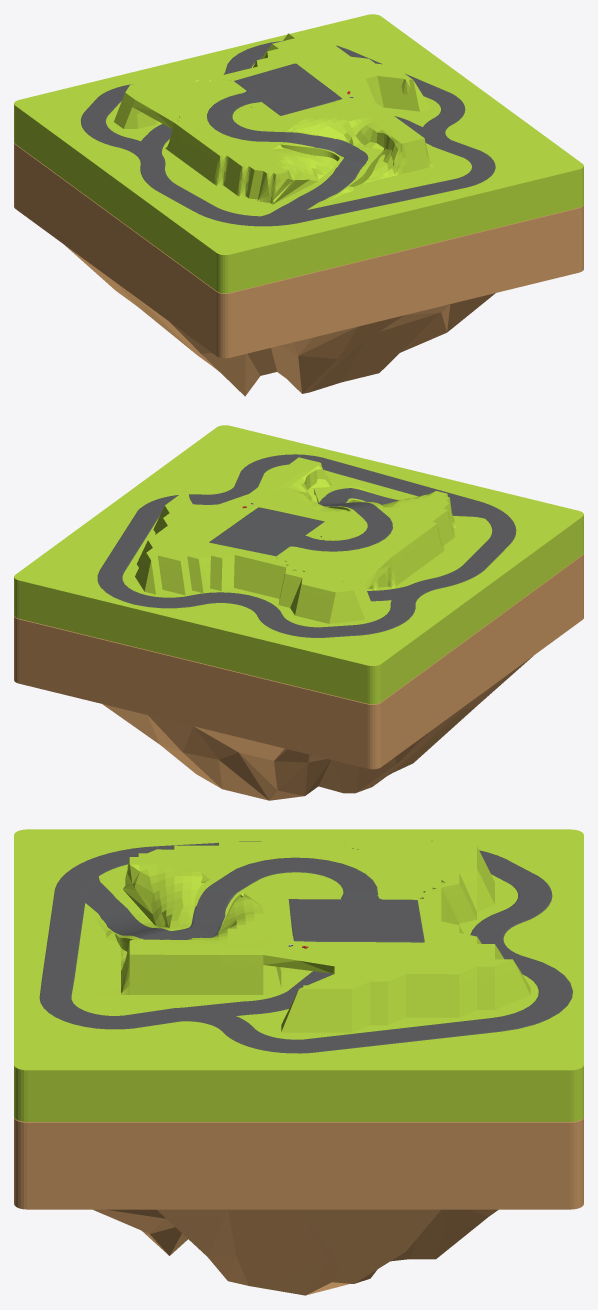
The model's file is newTrackDesignWithLevels.glb.
3 renders of one model, top to bottom at view 1: azimuth 30°, elevation 25°; view 2: azimuth 150°, elevation 25°; view 3: azimuth 270°, elevation 25°, orthographic. The views are drawn at different scales.
Visible parts, largest first — view 1: Grass.002, Island, outerTrack, upperTrack, tunnelRoad; view 2: Grass.002, Island, outerTrack, upperTrack; view 3: Grass.002, Island, outerTrack, upperTrack, tunnelRoad.
Part boxes in pixels (x1,y1,x2,y2): Grass.002: (14,14,583,293); Island: (14,142,583,396); outerTrack: (80,41,495,226); upperTrack: (207,63,368,224); tunnelRoad: (141,116,429,154); Grass.002: (14,425,583,704); Island: (14,553,583,800); outerTrack: (97,454,516,637); upperTrack: (209,488,498,556); Grass.002: (14,829,583,1121); Island: (14,1117,583,1295); outerTrack: (39,841,572,1053); upperTrack: (68,857,424,942); tunnelRoad: (185,971,331,1015).
Bounding box in the file's own units: 2000 × 1292 × 2000.
9 materials, 1 textured.
